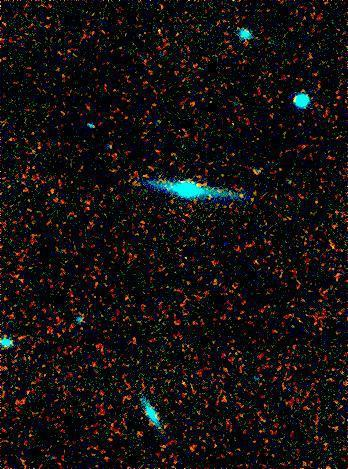star: (226, 181, 256, 211)
